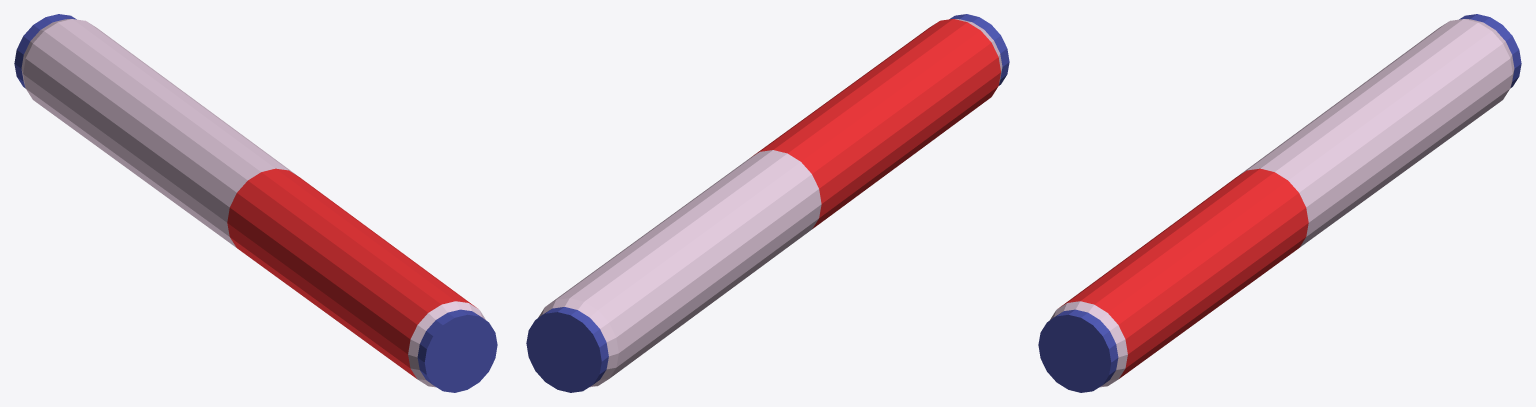
Rendered from SM_sweet_01.fbx.
3 views of the same model, side by side, from view 1: azimuth 30°, elevation 25°; view 2: azimuth 150°, elevation 25°; view 3: azimuth 330°, elevation 25° (orthographic).
Visible parts, largest first — view 1: sweet_01; view 2: sweet_01; view 3: sweet_01.
Boxes of the visible parts, <box> form: sweet_01: <box>14,14,497,392</box>; sweet_01: <box>526,14,1009,392</box>; sweet_01: <box>1038,14,1521,392</box>.
Size of the model in its own units: 7.93 by 7.81 by 67.05.
